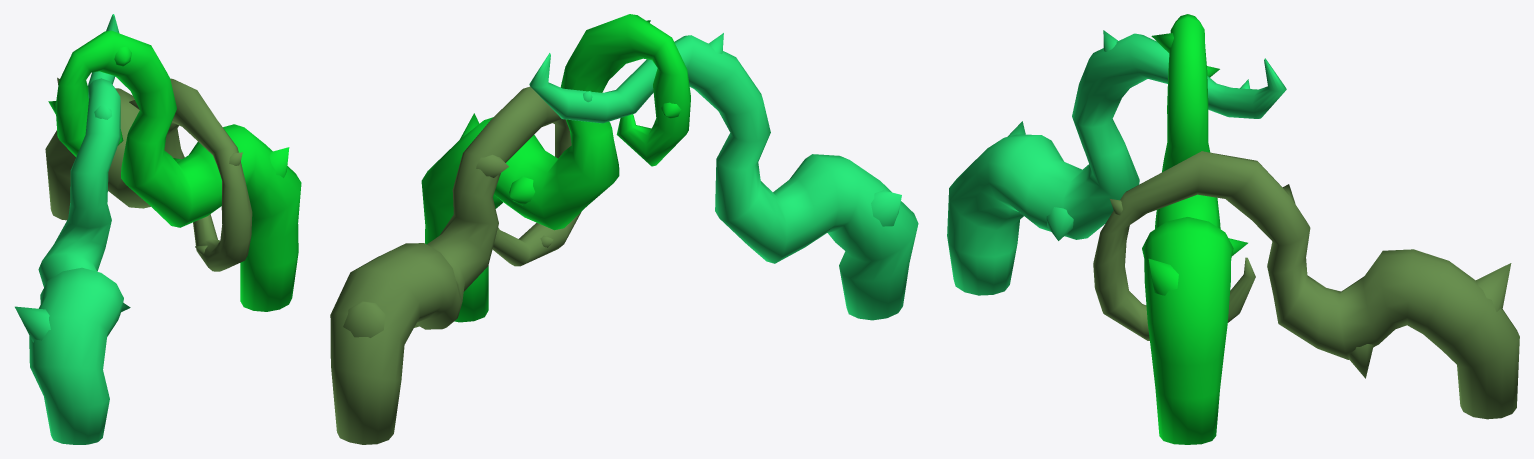
File: 3D_TestThorn_FREE.fbx
3 renders of one model, left to right at view 1: azimuth 30°, elevation 25°; view 2: azimuth 150°, elevation 25°; view 3: azimuth 270°, elevation 25°, orthographic. The views are drawn at different scales.
Visible parts, largest first — view 1: Cylinder, Cylinder.002, Cylinder.001; view 2: Cylinder.002, Cylinder.001, Cylinder; view 3: Cylinder.001, Cylinder.002, Cylinder.
Part boxes in pixels (x1=…): Cylinder: x1=48, y1=30, x2=301, y2=311; Cylinder.002: x1=15, y1=14, x2=130, y2=444; Cylinder.001: x1=45, y1=77, x2=252, y2=271; Cylinder.002: x1=529, y1=33, x2=918, y2=320; Cylinder.001: x1=330, y1=86, x2=581, y2=444; Cylinder: x1=421, y1=14, x2=690, y2=322; Cylinder.001: x1=1093, y1=151, x2=1519, y2=419; Cylinder.002: x1=947, y1=30, x2=1286, y2=295; Cylinder: x1=1142, y1=14, x2=1247, y2=444.
Size of the model in its own units: 436 by 360 by 555.
